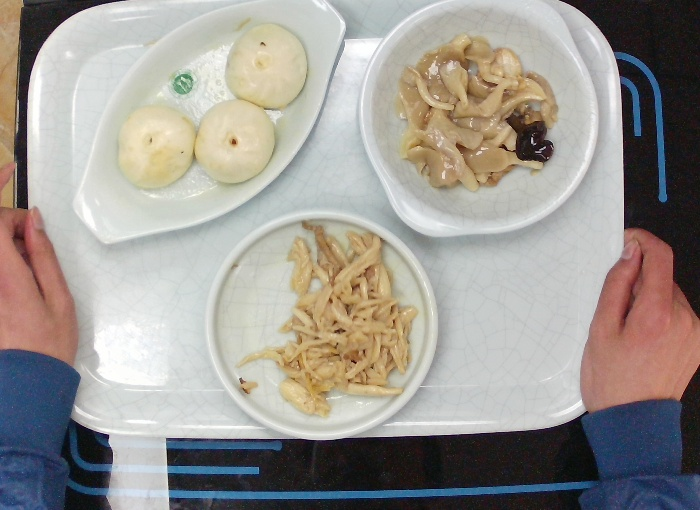JYsf-Shuang_Er_Wan: (352, 3, 602, 240)
JYsf-Xiao_Yuan_Pan: (200, 212, 439, 441)
JYsf-Yu_Pan: (62, 1, 347, 247)
